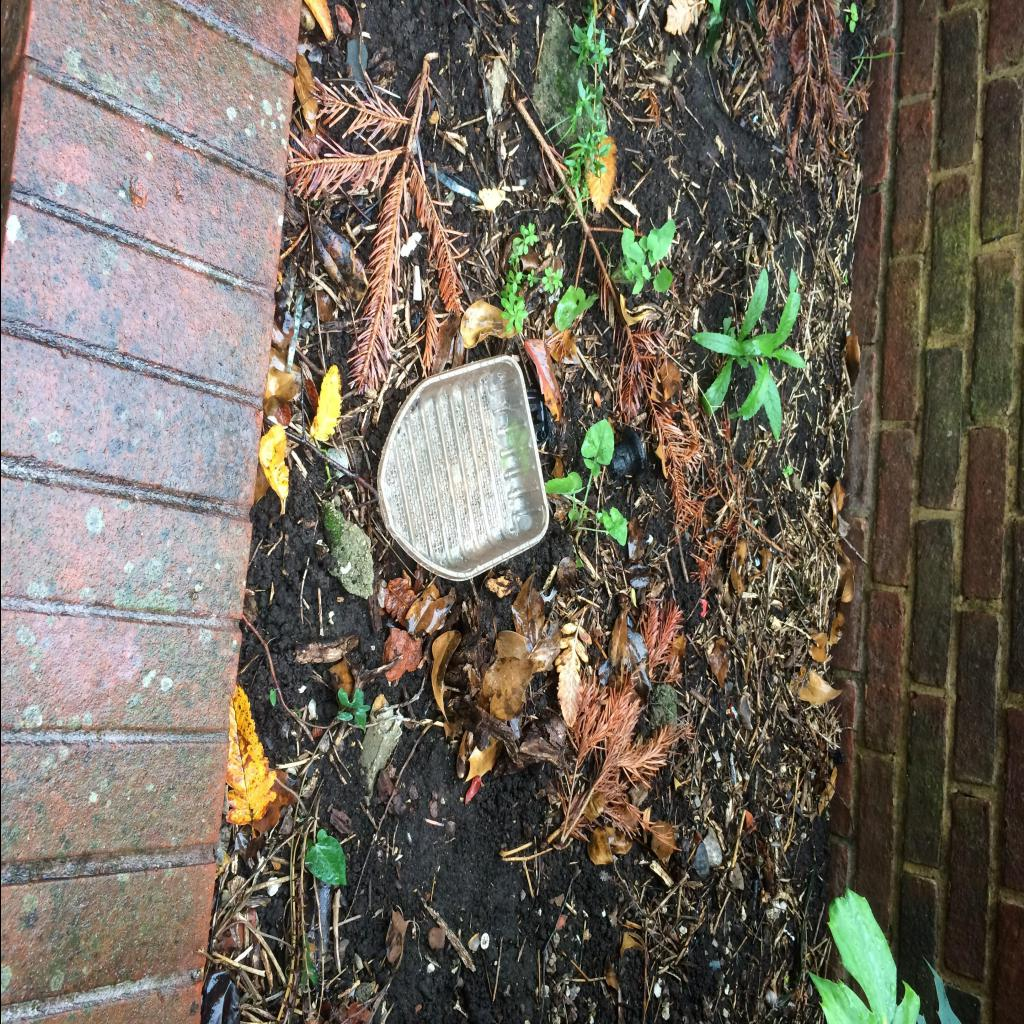Other plastic wrapper: (606, 427, 645, 481), (524, 386, 550, 448)
Plastic film: (427, 164, 481, 204), (284, 292, 304, 374)
